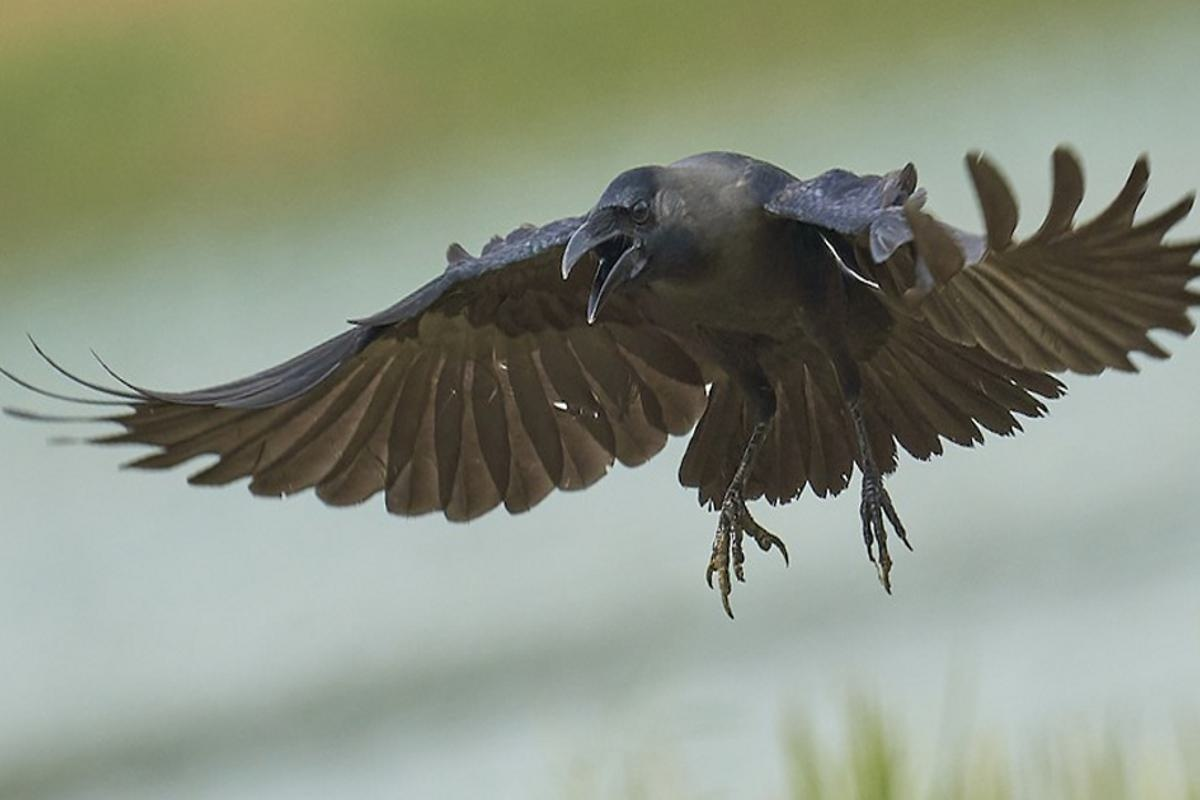crow: (28, 130, 1200, 619)
